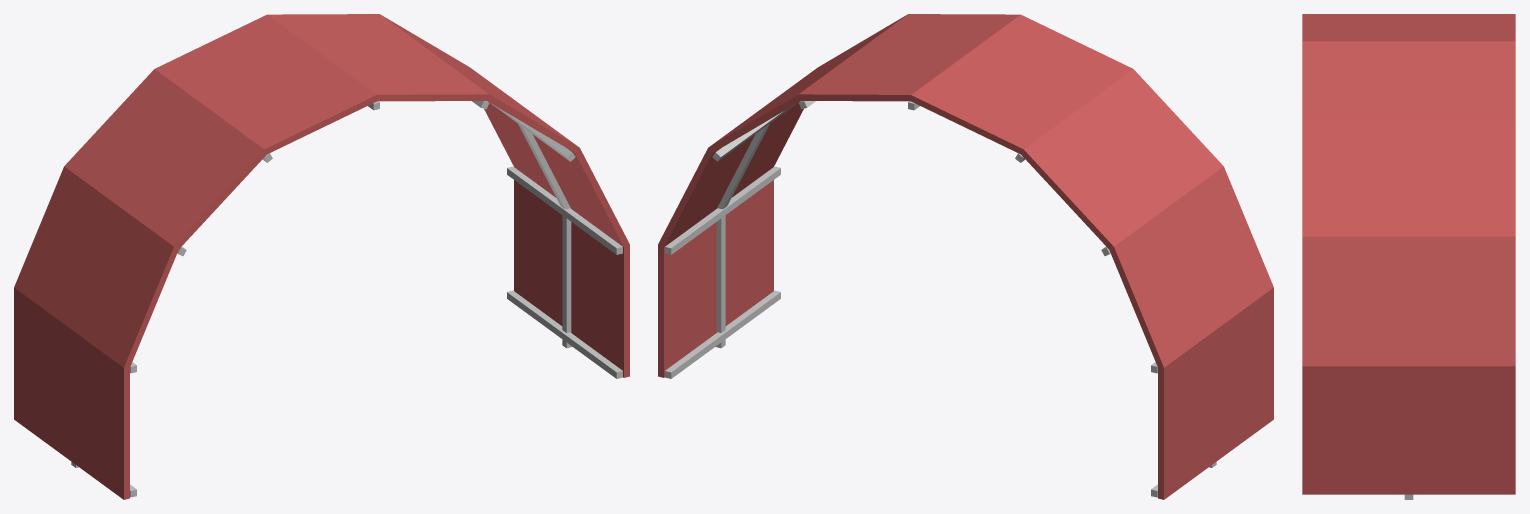
File: SM_medium_greenhouse_1.fbx
3 renders of one model, left to right at view 1: azimuth 30°, elevation 25°; view 2: azimuth 150°, elevation 25°; view 3: azimuth 270°, elevation 25°, orthographic. The views are drawn at different scales.
Visible parts, largest first — view 1: Cube_11; view 2: Cube_11; view 3: Cube_11.
Part boxes in pixels (box(x1,y1,x2,y2)): Cube_11: box(14, 14, 629, 499); Cube_11: box(658, 14, 1273, 499); Cube_11: box(1302, 14, 1515, 499).
Size of the model in its own units: 399 by 265 by 150.
